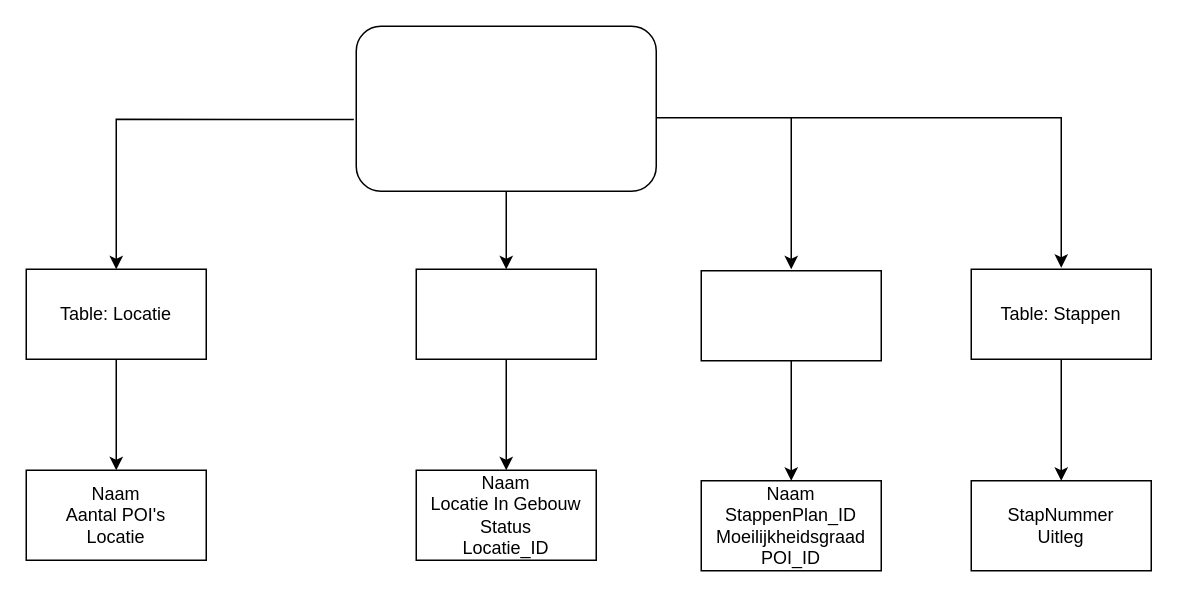
This 1178x597 diagram has some shape labels left out. Here are the shapes that lost their labels. From the top down, the box of each, then its label:
(355, 25, 656, 191): Database
(415, 268, 596, 359): Table: POI's
(700, 269, 881, 361): Table: Stappenplan Link
